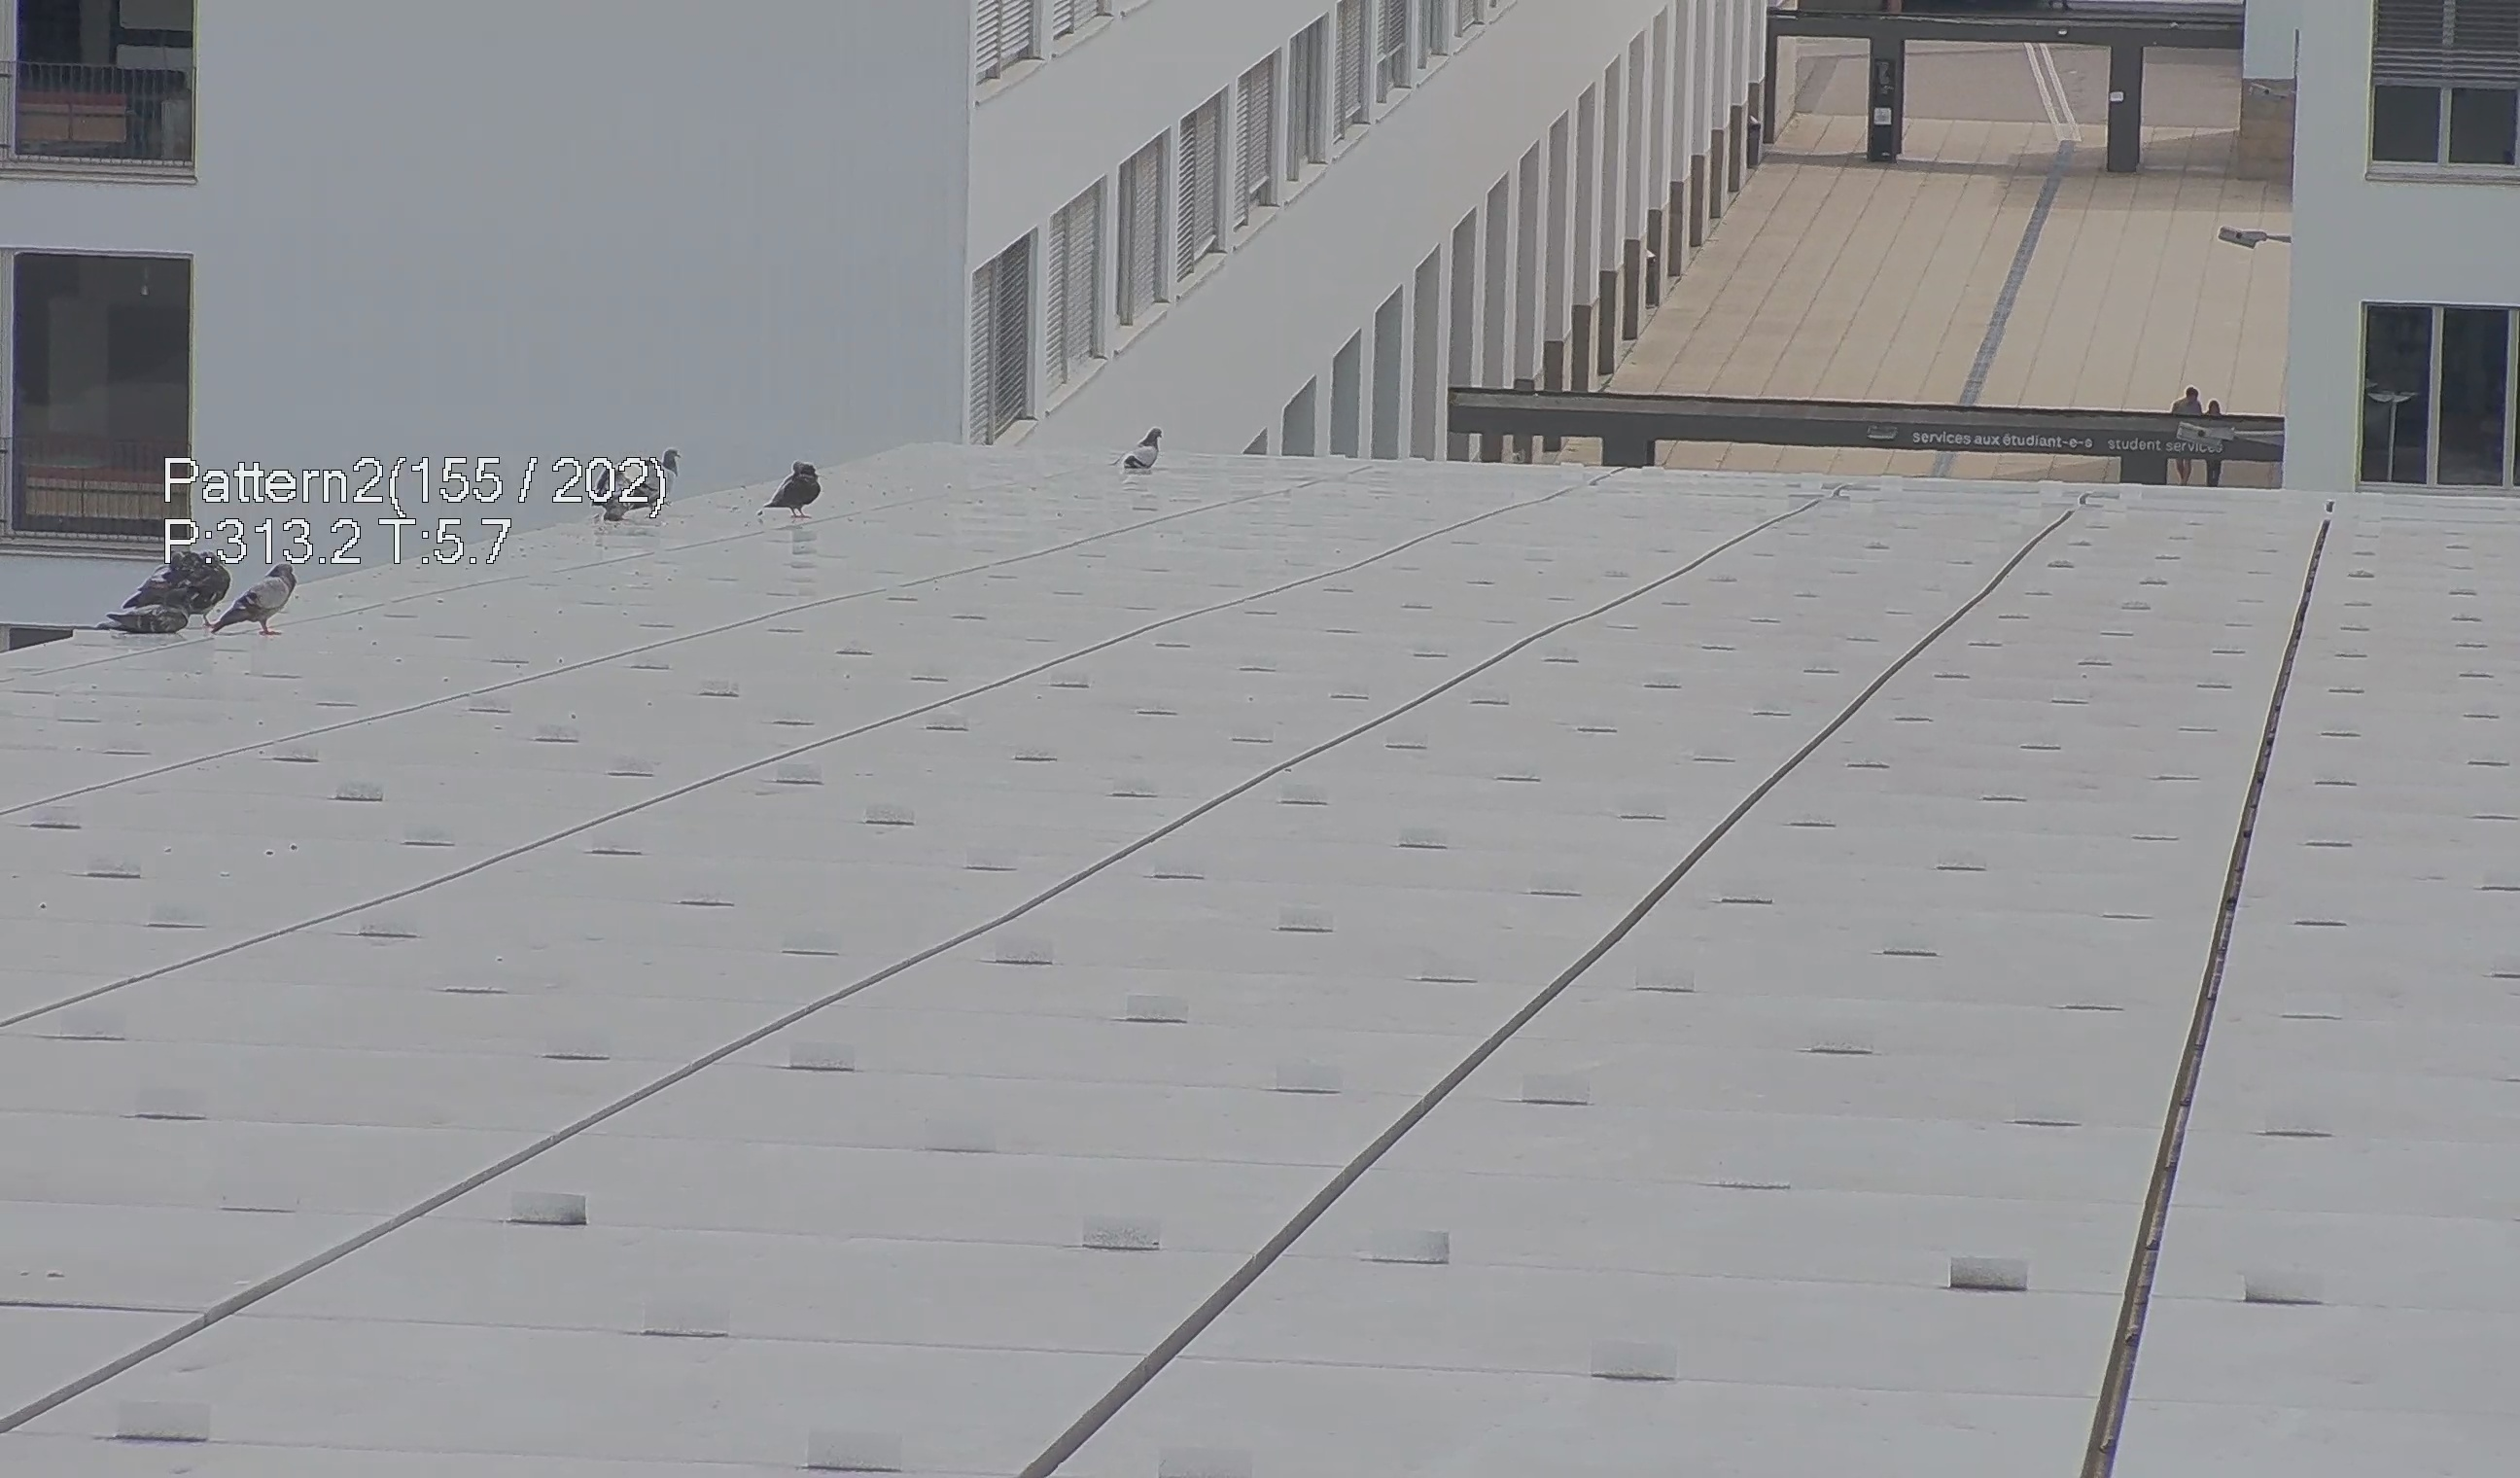Pigeon: (227, 551, 304, 648), (83, 595, 193, 642), (141, 556, 232, 612), (760, 447, 821, 523), (649, 438, 691, 519), (1104, 426, 1171, 475)
